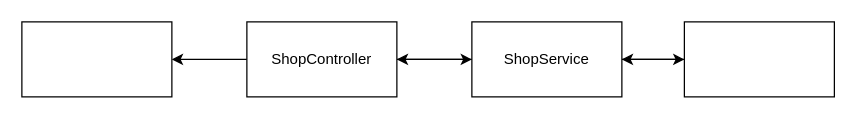
Image size: 856x119. Some labels were removed from this diagram. Each missing label, with the box of its shape:
CurrencyService: (683, 21, 834, 97)
Jogador: (21, 21, 172, 97)
